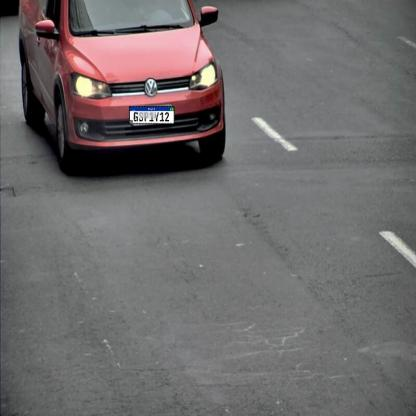PlacaM: (129, 106, 175, 124)
